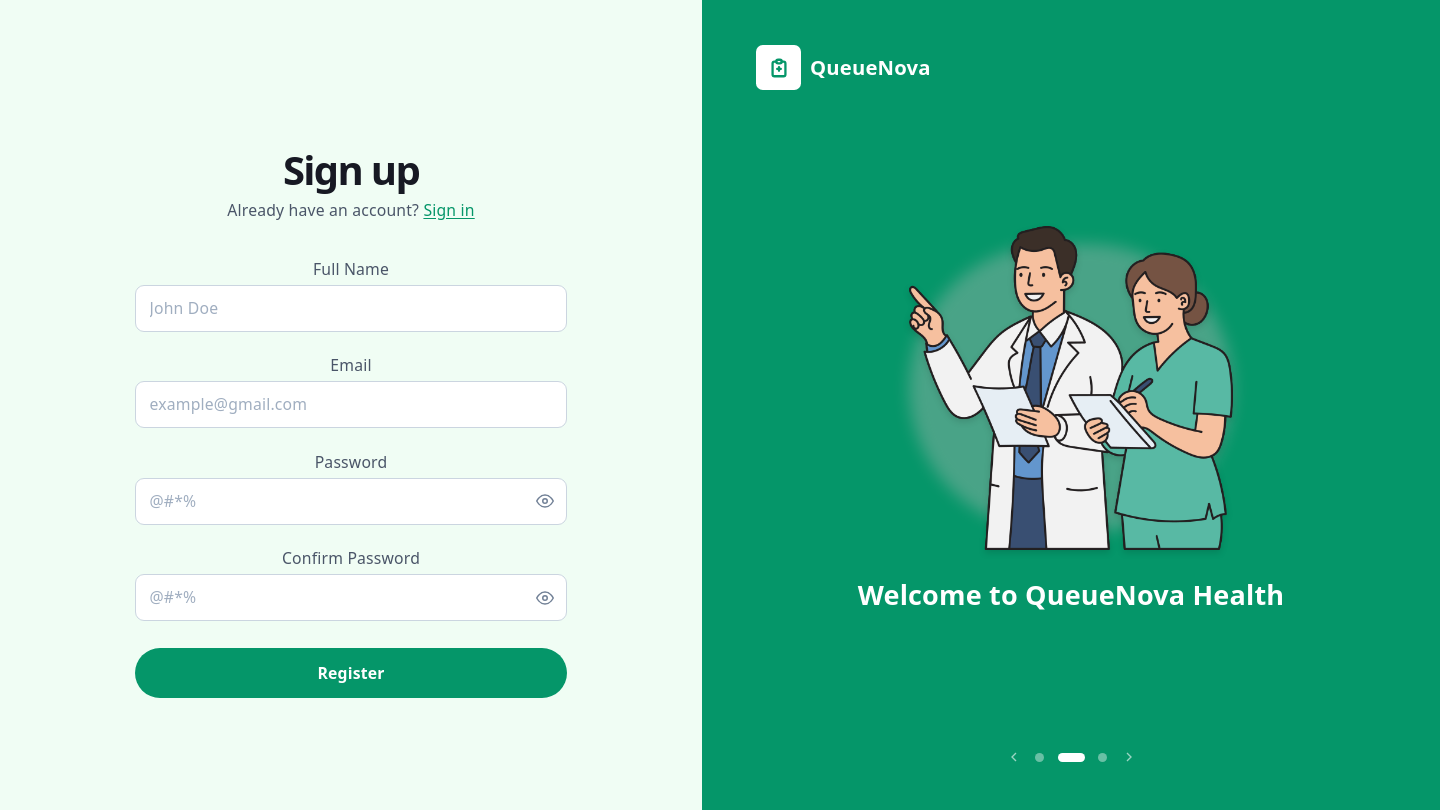
Test: RegisterPage › disables submit button while loading
Click the button "Register": (351,673) x1=135 y1=648 x2=567 y2=698
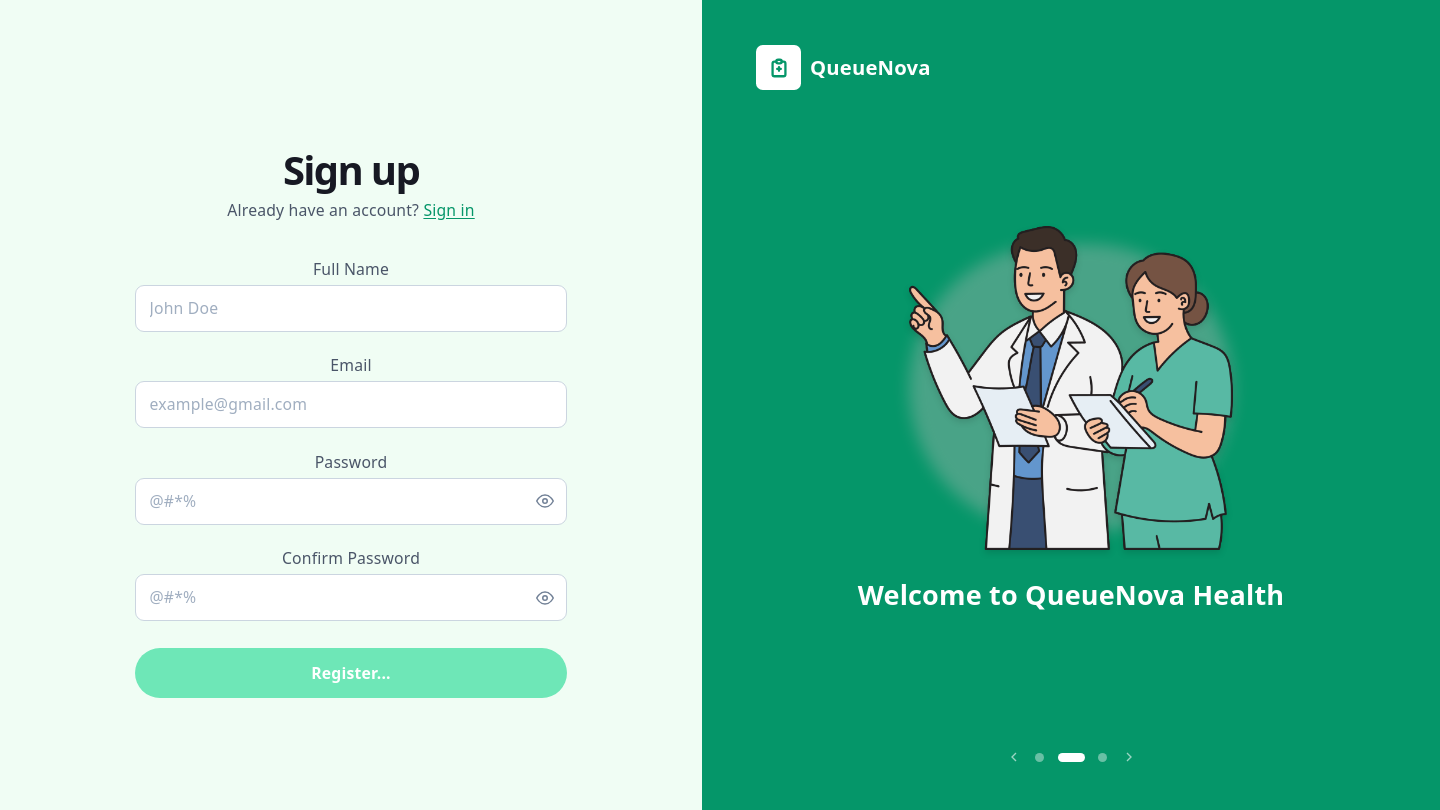
Check: the button "Register..." is disabled, box x1=135 y1=648 x2=567 y2=698
